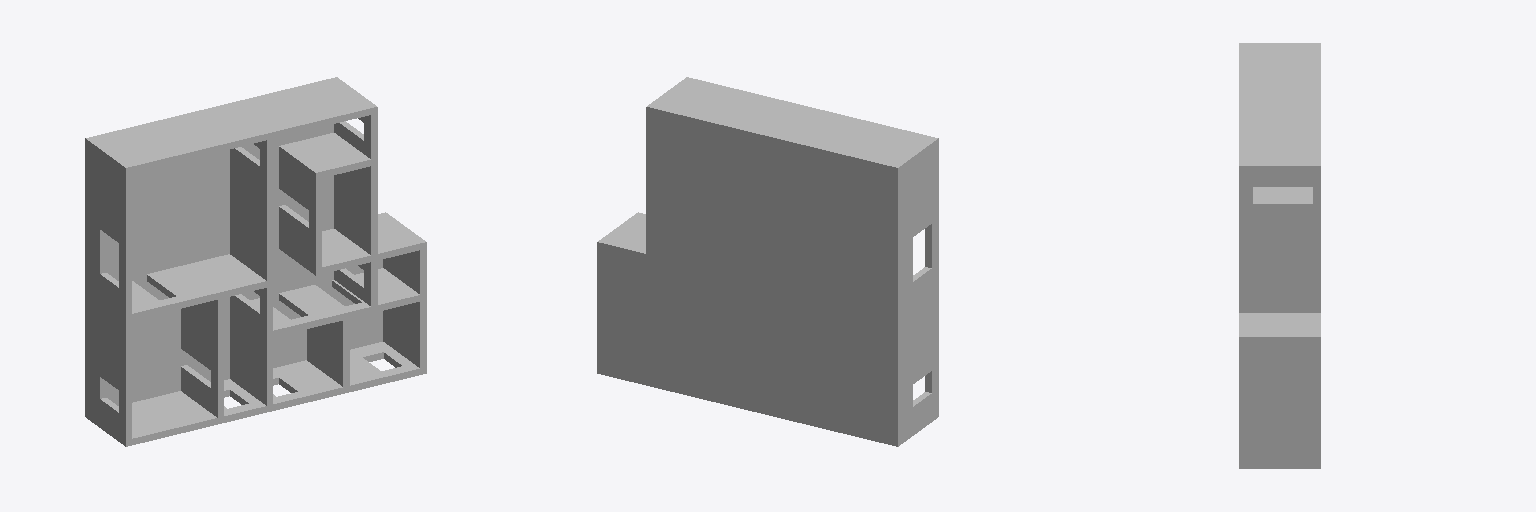
File: appartamentoCopia.obj
3 views of the same model, side by side, from view 1: azimuth 30°, elevation 25°; view 2: azimuth 150°, elevation 25°; view 3: azimuth 270°, elevation 25° (orthographic).
Size of the model in its own units: 14.1 by 12.5 by 3.3.